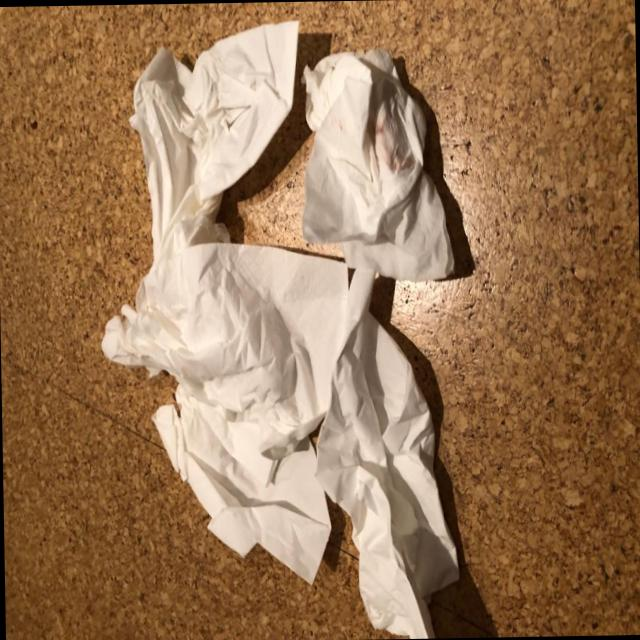organic waste: (100, 232, 352, 494), (306, 264, 468, 640), (127, 360, 339, 590), (120, 15, 302, 254), (302, 34, 459, 282)
